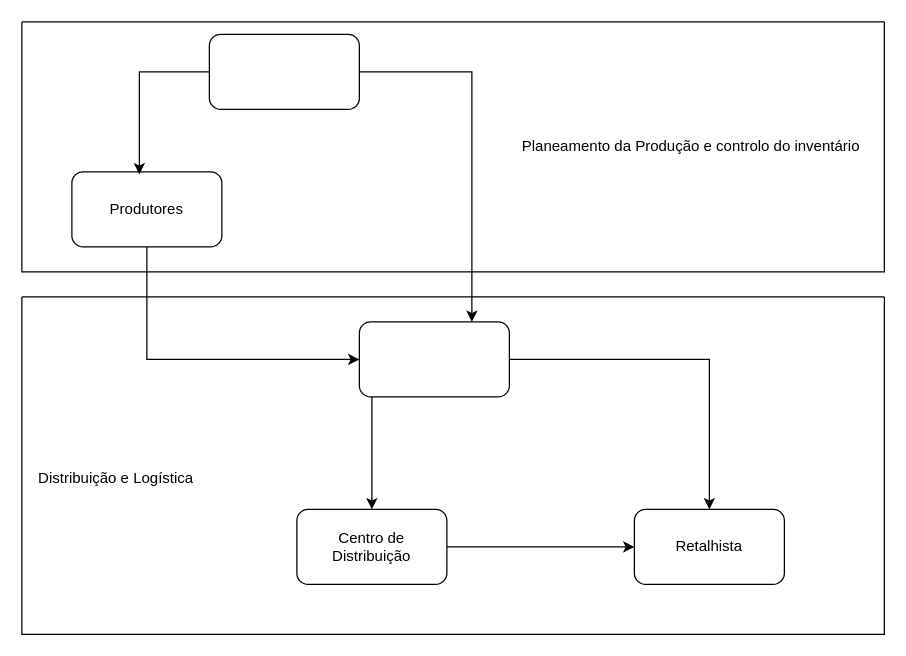
Some shapes in this 906 by 656 pixel diagram are drawn without their labels. The shapes that lost their labels are listed below. From the top down, each one's box as (x1, y1, x2, y2) in pixels, then its label:
(208, 33, 359, 109): Fornecedores
(358, 321, 509, 397): Distribuidor
